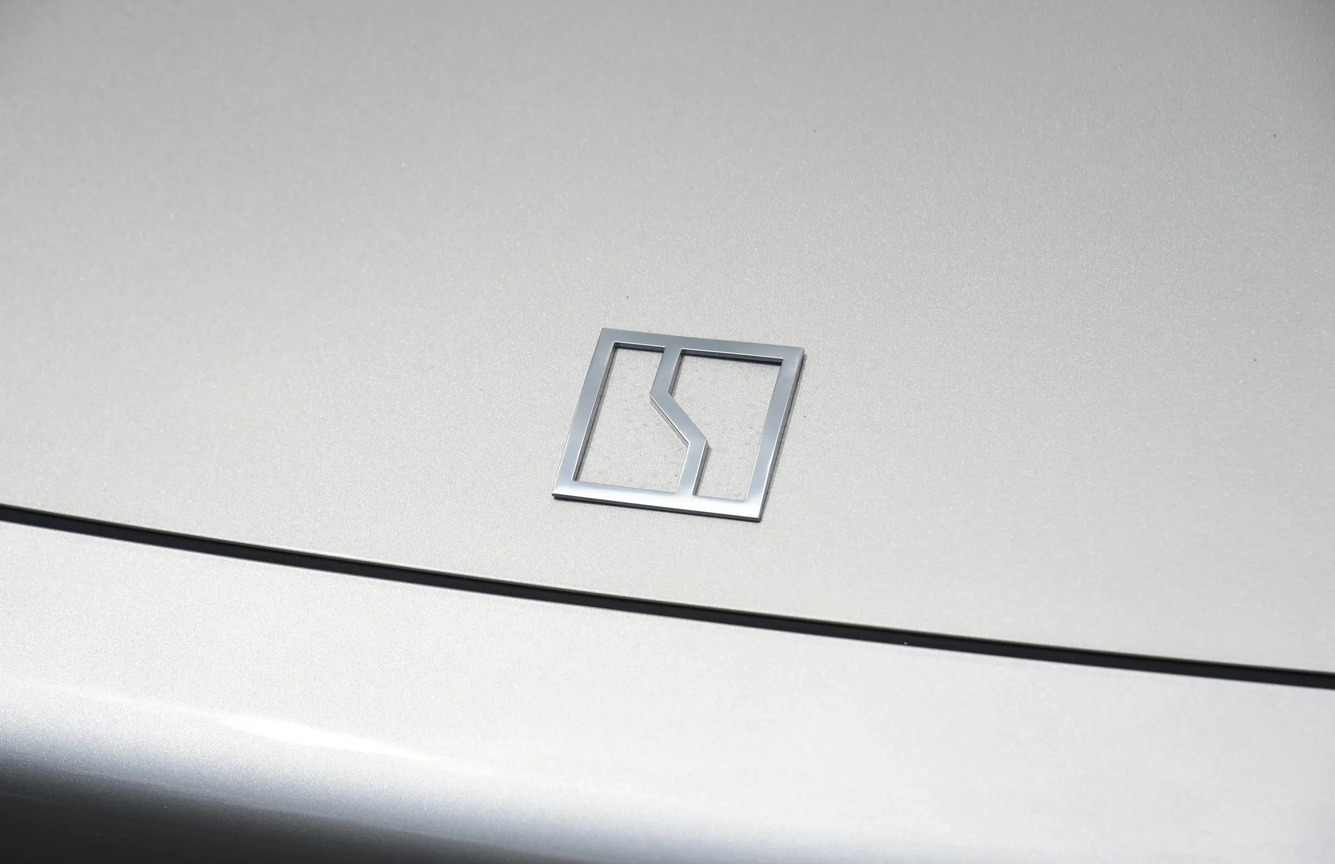ZEEKR: (552, 329, 803, 521)
